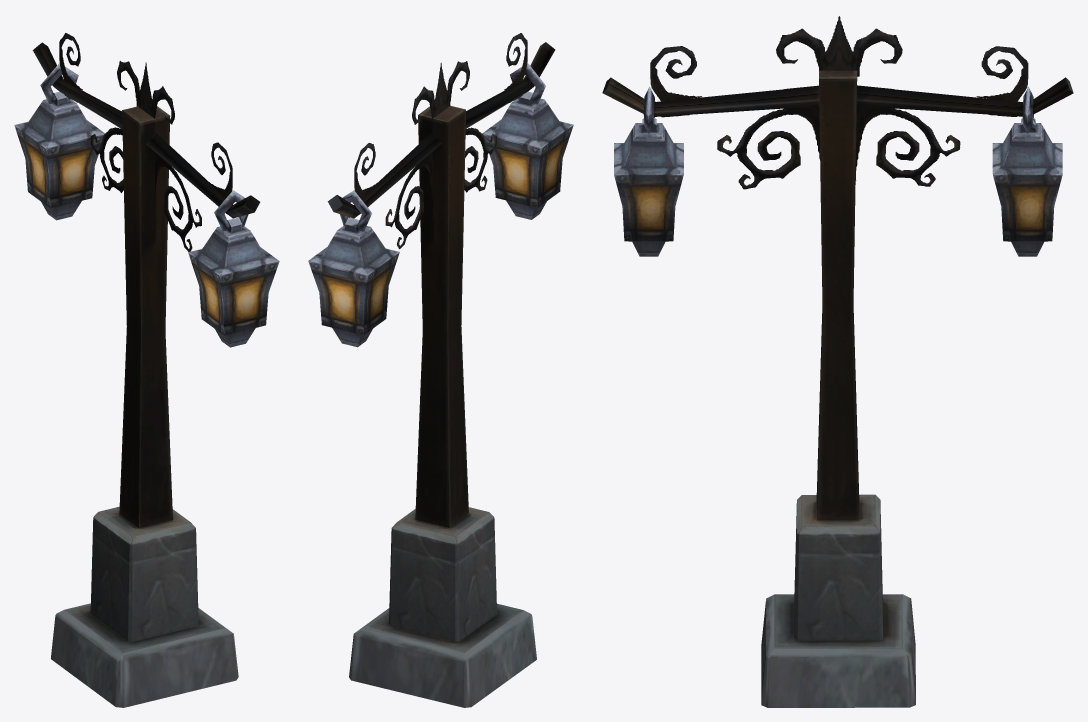
Rendered from object_lampposts09.fbx.
3 renders of one model, left to right at view 1: azimuth 30°, elevation 25°; view 2: azimuth 150°, elevation 25°; view 3: azimuth 270°, elevation 25°, orthographic. The views are drawn at different scales.
Parts seen in each view (by area): view 1: object_lampposts09-0; view 2: object_lampposts09-0; view 3: object_lampposts09-0.
Part boxes in pixels (bbox=[...]): object_lampposts09-0: bbox=[14, 33, 279, 707]; object_lampposts09-0: bbox=[308, 33, 573, 707]; object_lampposts09-0: bbox=[602, 16, 1073, 707].
Bounding box in the file's own units: 1 × 4.73 × 3.05.
